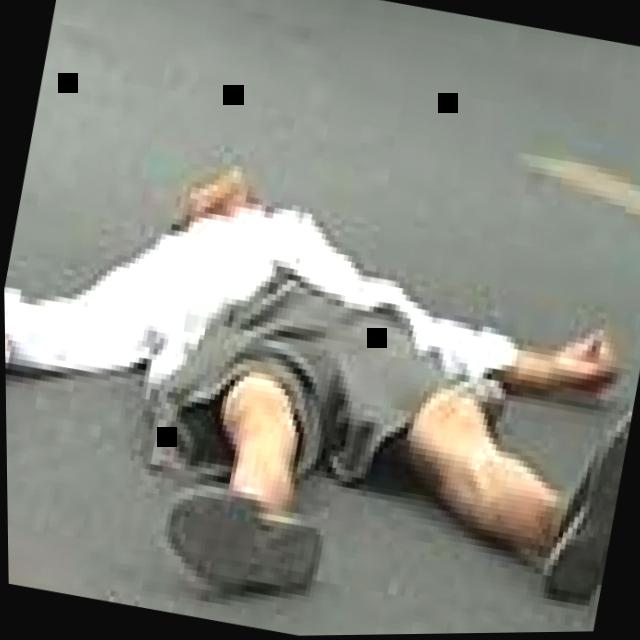Fall-Detected: (1, 83, 640, 640)
